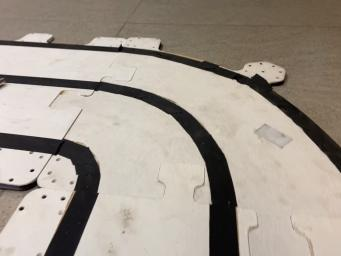street: (0, 40, 341, 256), (0, 40, 341, 256), (0, 40, 341, 256), (0, 40, 341, 256), (0, 40, 341, 256), (0, 40, 341, 256)
